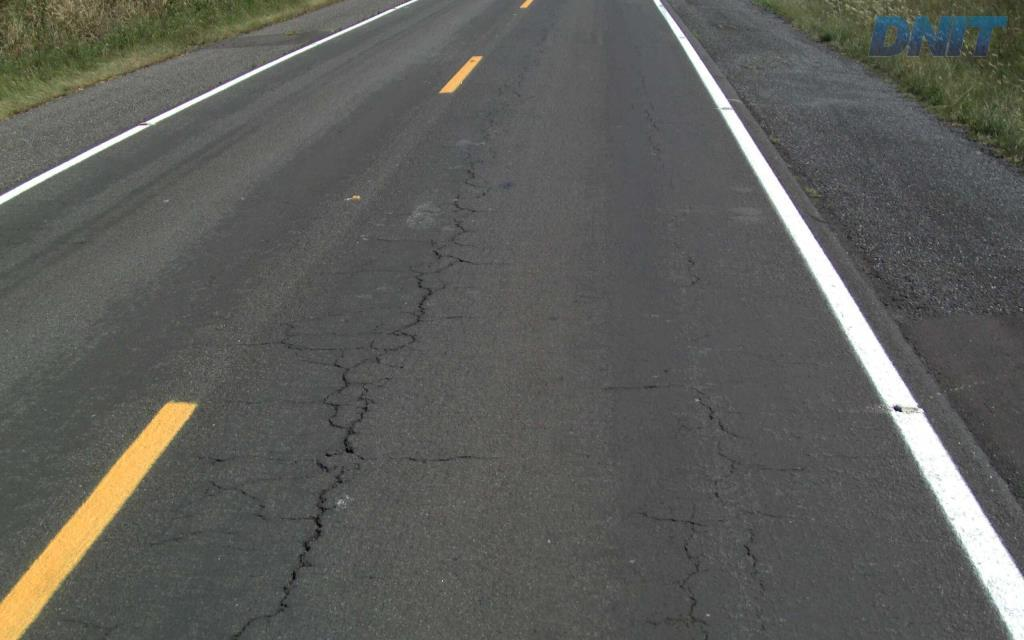crack: (263, 487, 336, 623), (319, 382, 375, 457), (663, 593, 709, 628)
